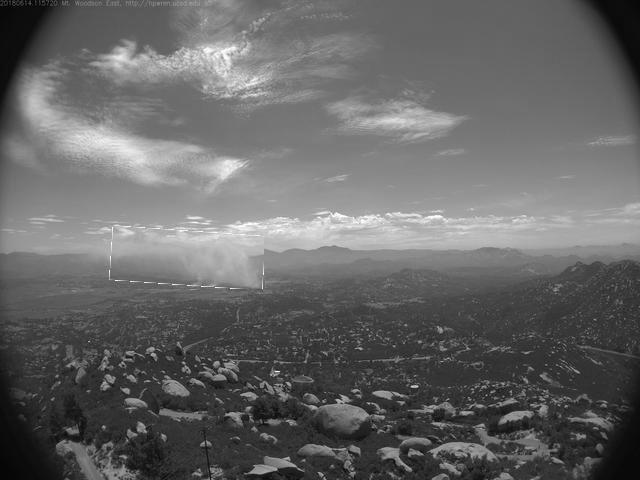smoke: (111, 230, 266, 289)
